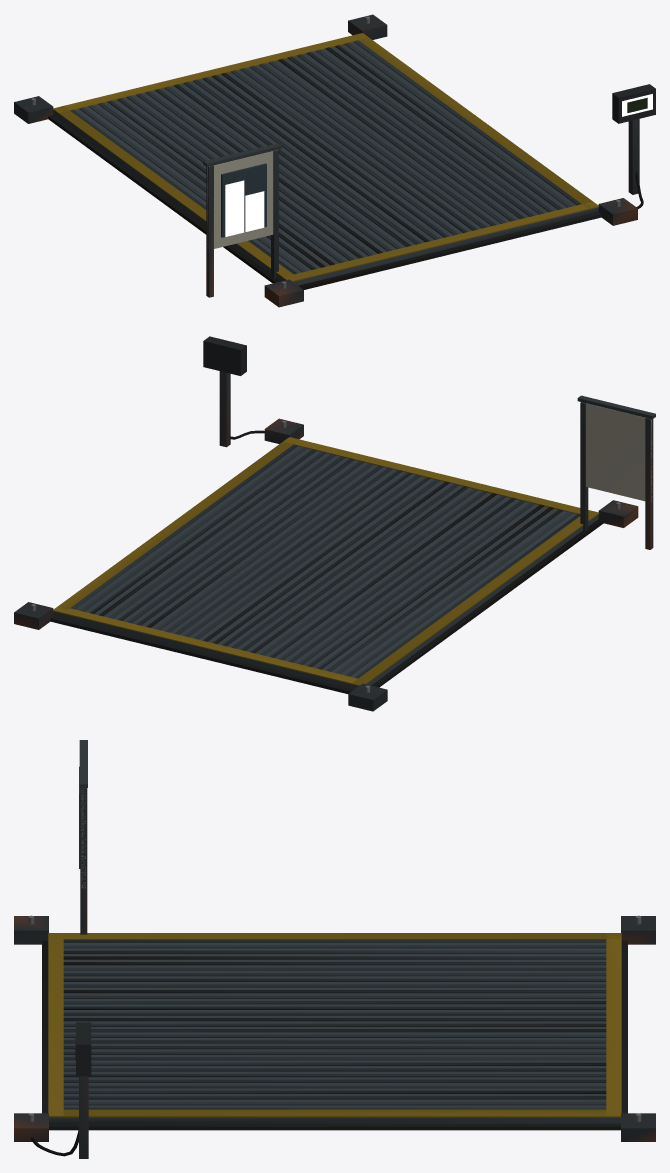
The model's file is weighing-pad.glb.
The picture shows the model from 3 angles, top to bottom: view 1: azimuth 30°, elevation 25°; view 2: azimuth 150°, elevation 25°; view 3: azimuth 270°, elevation 25°; orthographic projection. The views are drawn at different scales.
Parts seen in each view (by area): view 1: pad; view 2: pad; view 3: pad.
Boxes of the visible parts, x1=… form: pad: x1=14, y1=14, x2=655, y2=307; pad: x1=14, y1=336, x2=655, y2=711; pad: x1=14, y1=740, x2=655, y2=1158.
Size of the model in its own units: 8.97 by 2.59 by 9.2.
